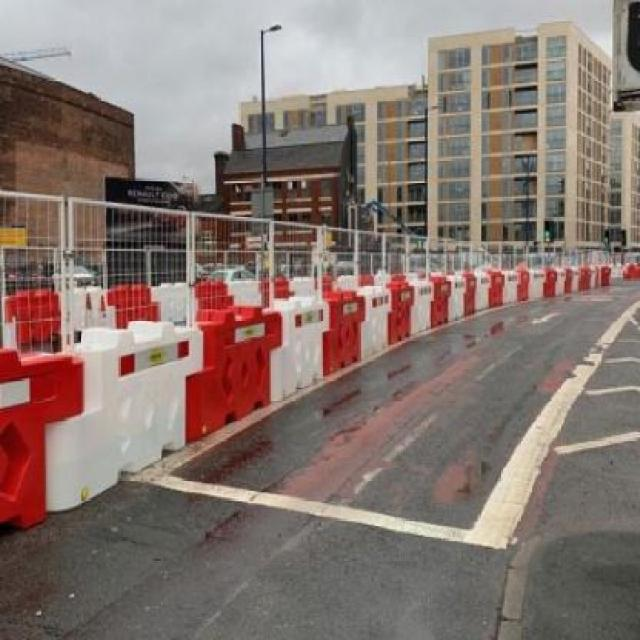fallen_object: (47, 327, 222, 496), (0, 323, 114, 531), (274, 243, 430, 372), (170, 307, 318, 431), (62, 260, 200, 331), (359, 262, 507, 322), (0, 257, 82, 347), (493, 255, 640, 300), (186, 253, 305, 300)
